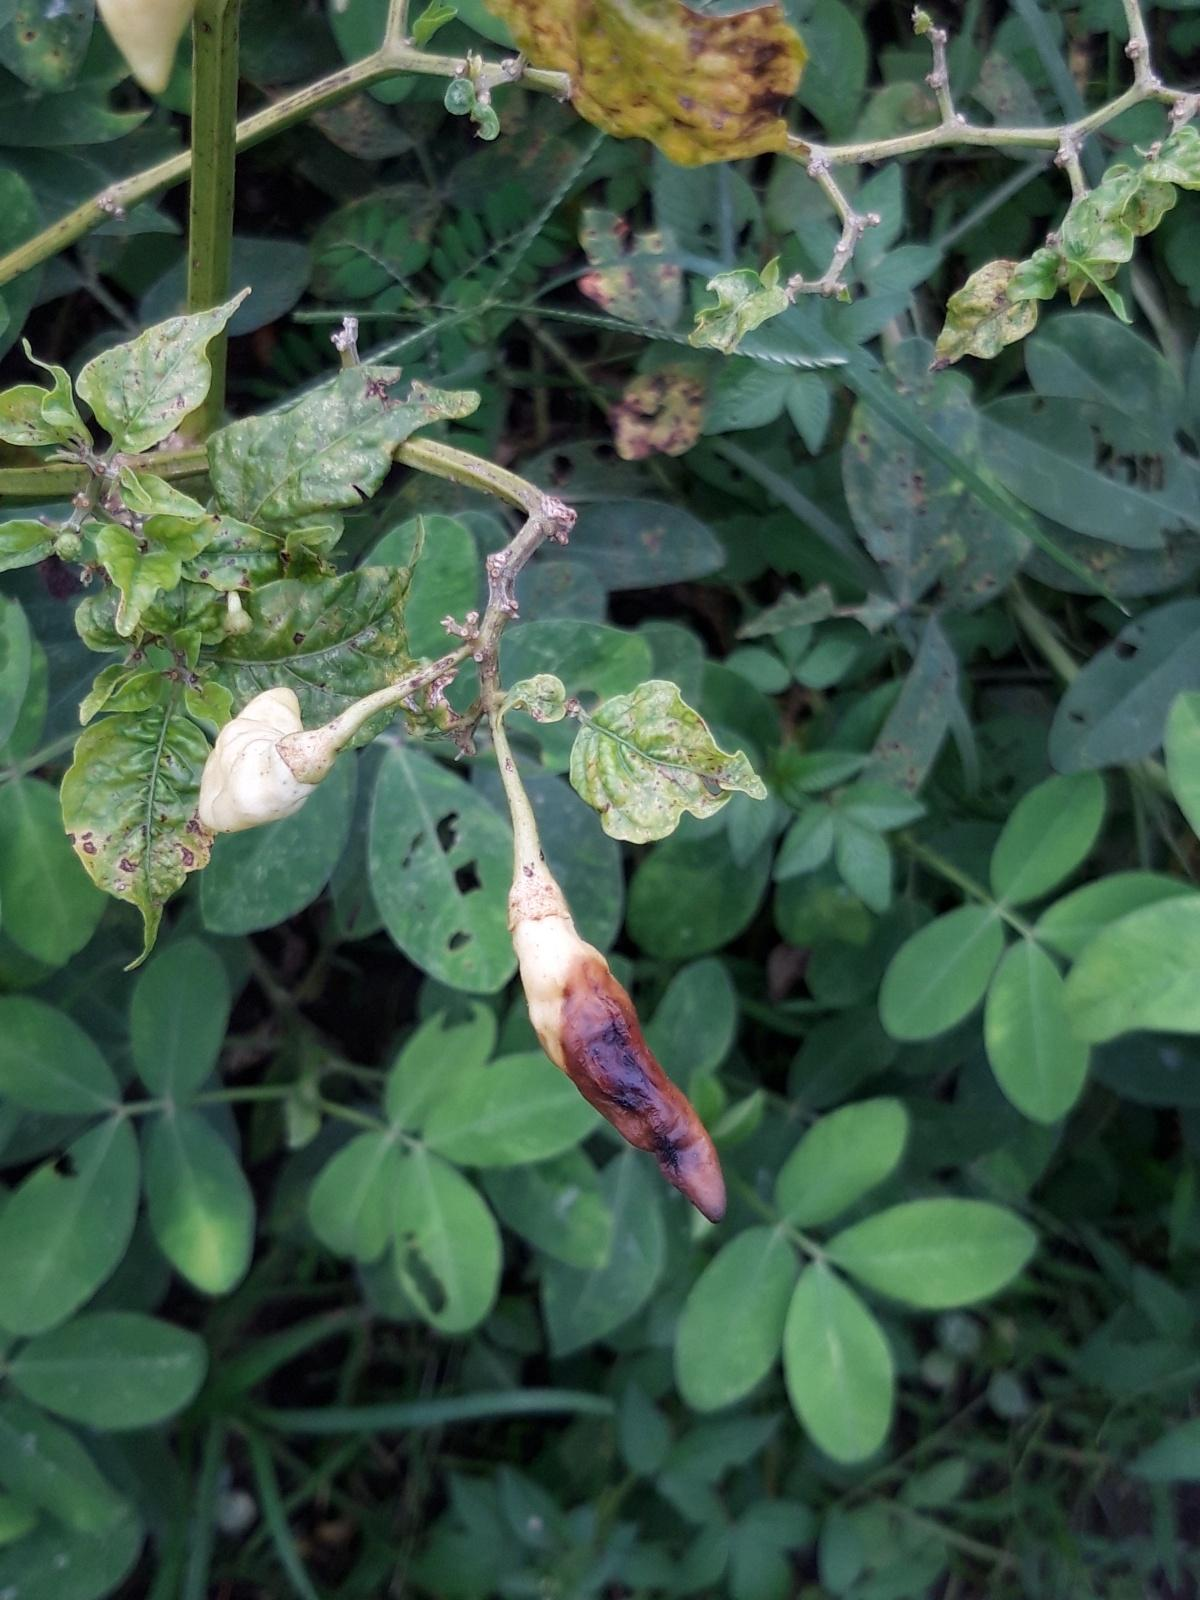cabai_normal: (197, 684, 330, 829)
lalat_buah: (503, 873, 727, 1227)
